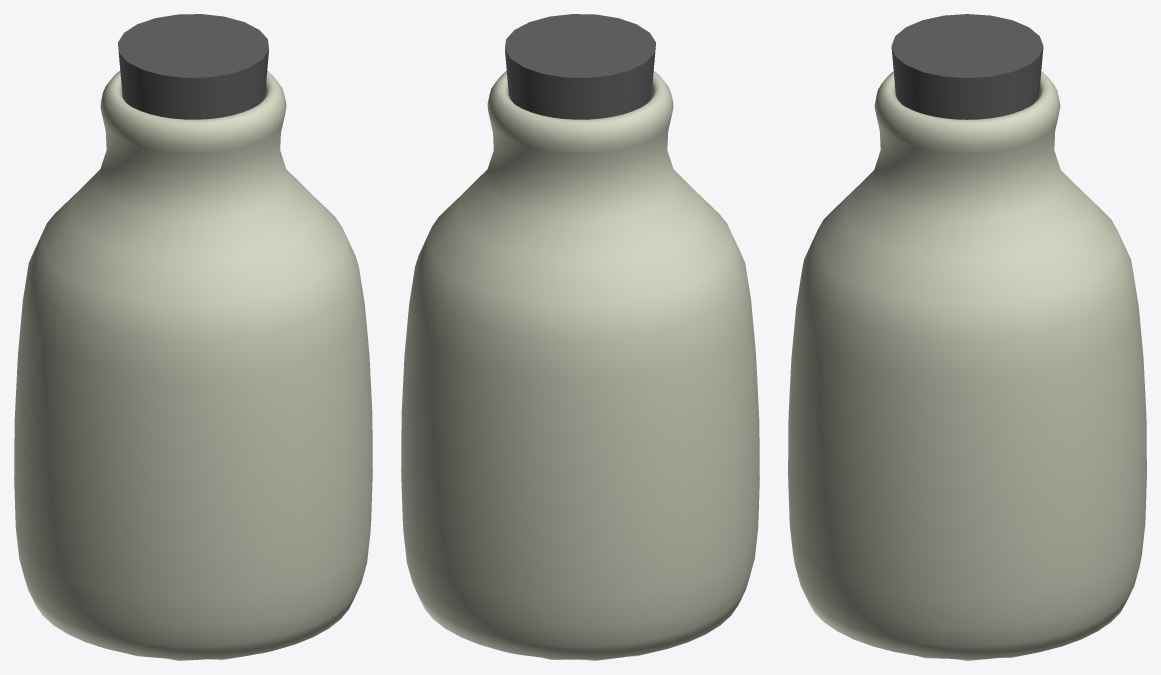
The model's file is fbx_jar.fbx.
The picture shows the model from 3 angles, left to right: view 1: azimuth 30°, elevation 25°; view 2: azimuth 150°, elevation 25°; view 3: azimuth 270°, elevation 25°; orthographic projection.
Parts seen in each view (by area): view 1: pPipe2; view 2: pPipe2; view 3: pPipe2.
Part boxes in pixels (x1,y1,x2,y2): pPipe2: [14, 14, 372, 660]; pPipe2: [401, 14, 759, 660]; pPipe2: [788, 14, 1146, 660].
Size of the model in its own units: 11.56 by 19.91 by 11.56.
